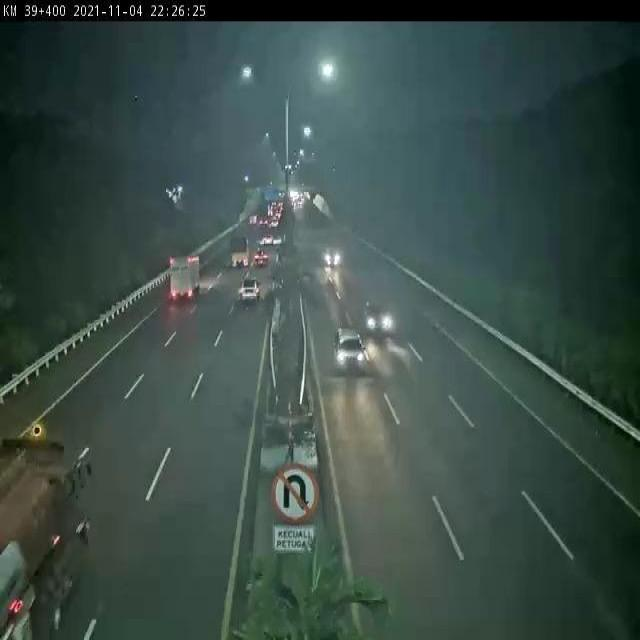car: (335, 328, 368, 373), (364, 300, 393, 336), (239, 273, 260, 304), (320, 245, 341, 267), (254, 249, 267, 264)
truck-l-: (169, 252, 202, 300)
truck-m-: (233, 233, 249, 268)
truck-xl-: (0, 426, 95, 640)
